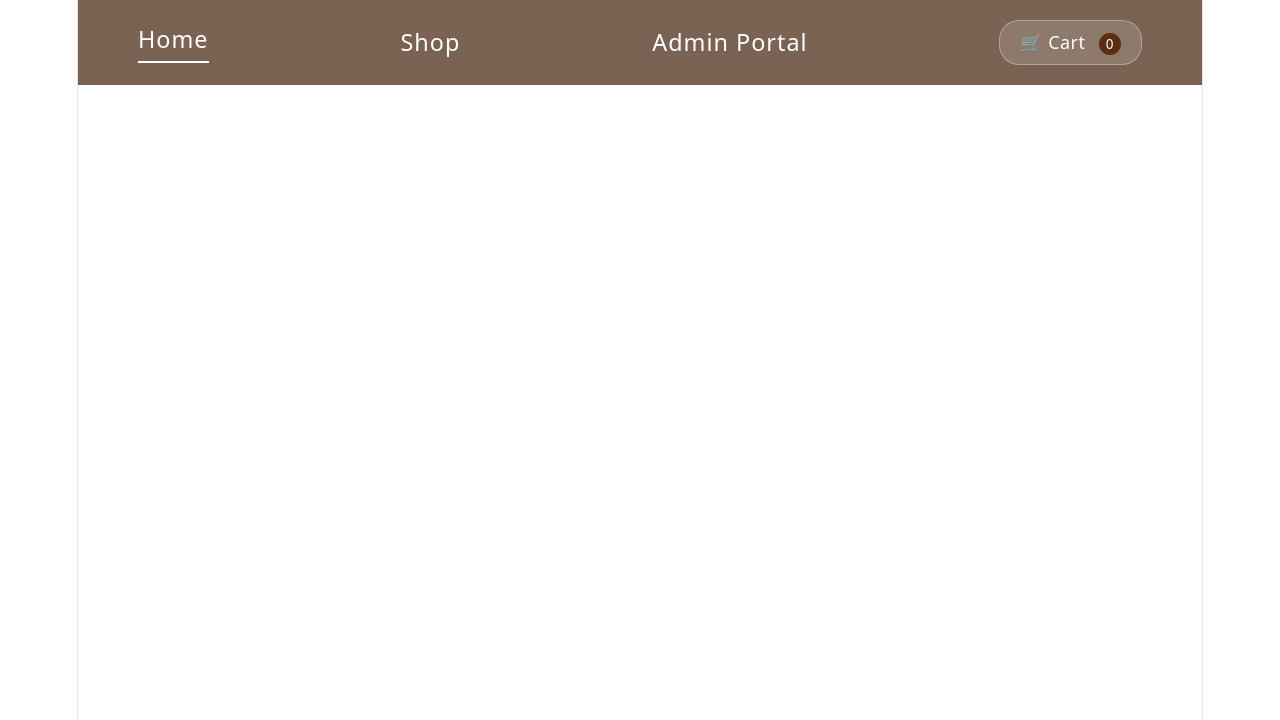
it: Navbar › shows empty message when cart is empty
The image size is (1280, 720).
Click the button "🛒 Cart 0" at (1071, 42), box [1000, 20, 1142, 65]
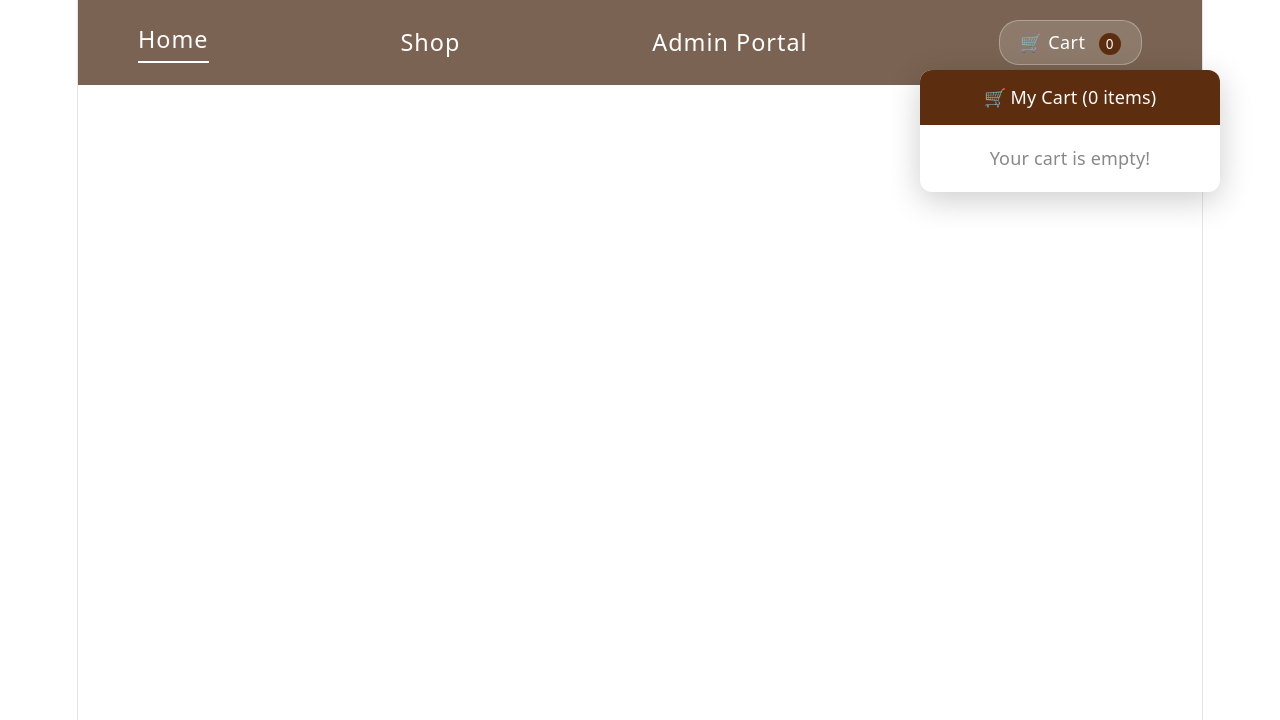
Now the text "Your cart is empty!" is shown, box [990, 146, 1150, 170]
